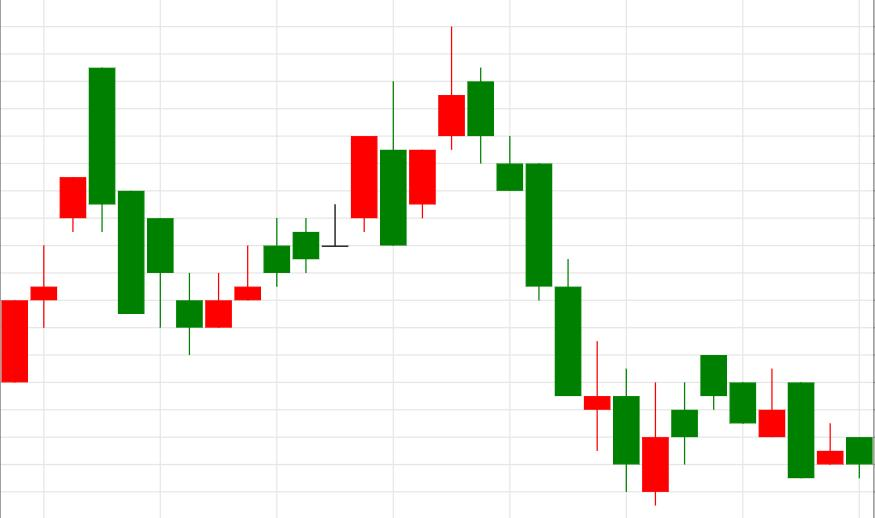shooting_star_fall: (205, 25, 466, 328)
